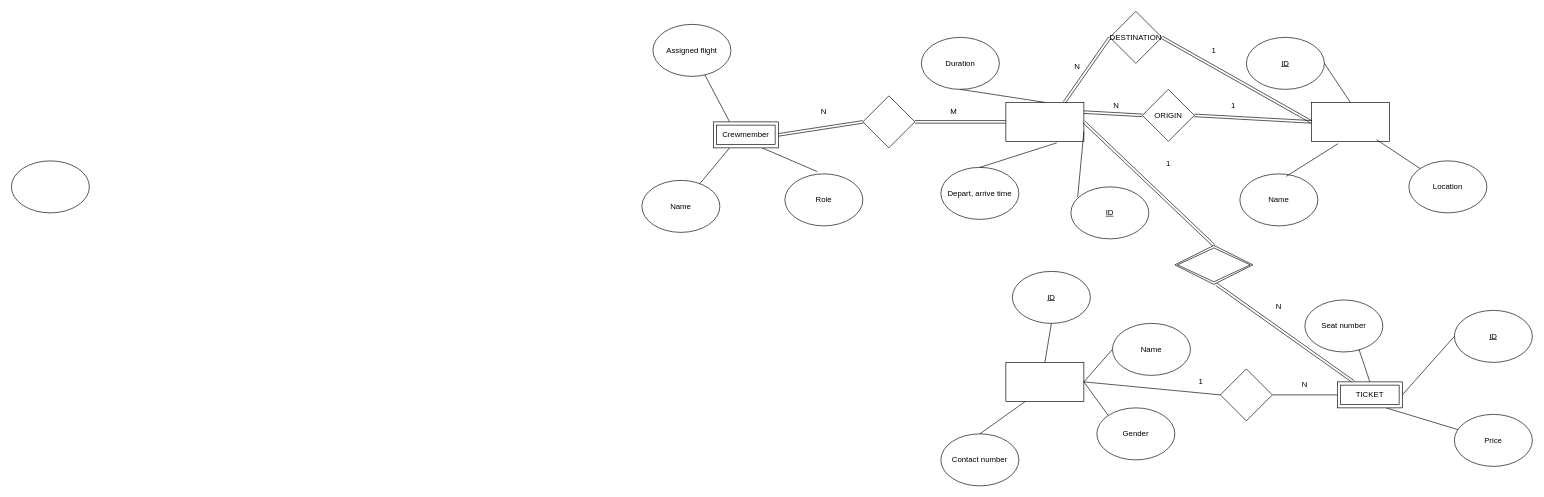
This 1544x497 diagram has some shape labels left out. The centre of each missing label's shape, as x and y in pixels:
"AIRPORT" goes at point 1350,121.
"Belongs to" goes at point 1213,264.
"BOOKS" goes at point 1246,394.
"FLIGHTS" goes at point 1044,121.
"HAVE" goes at point 888,121.
"PASSENGERS" goes at point 1044,381.
